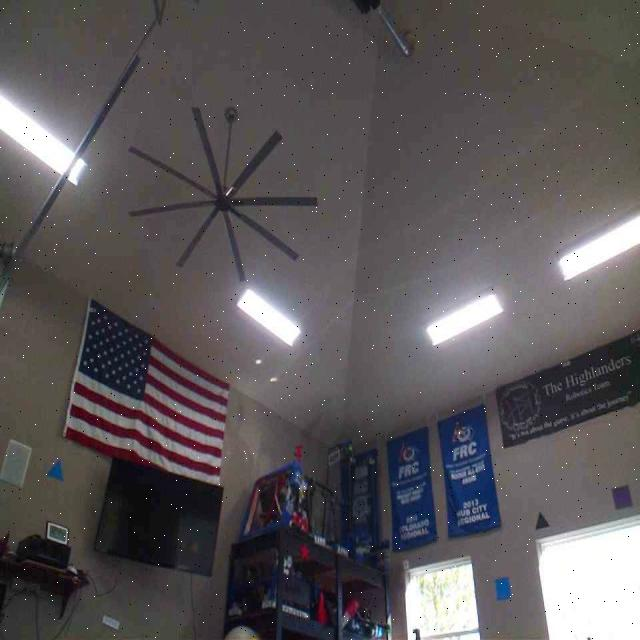square_blue: (493, 575, 512, 600)
square_purple: (610, 482, 632, 508)
triangle_black: (535, 509, 548, 529)
triangle_blue: (46, 458, 63, 480)
